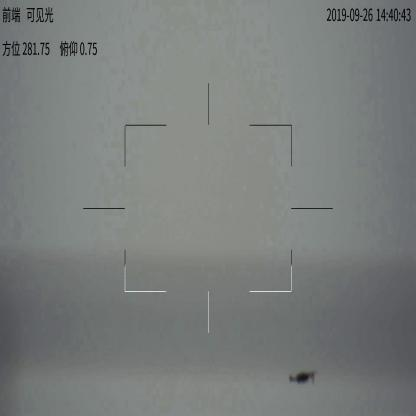uav: (284, 367, 319, 387)
